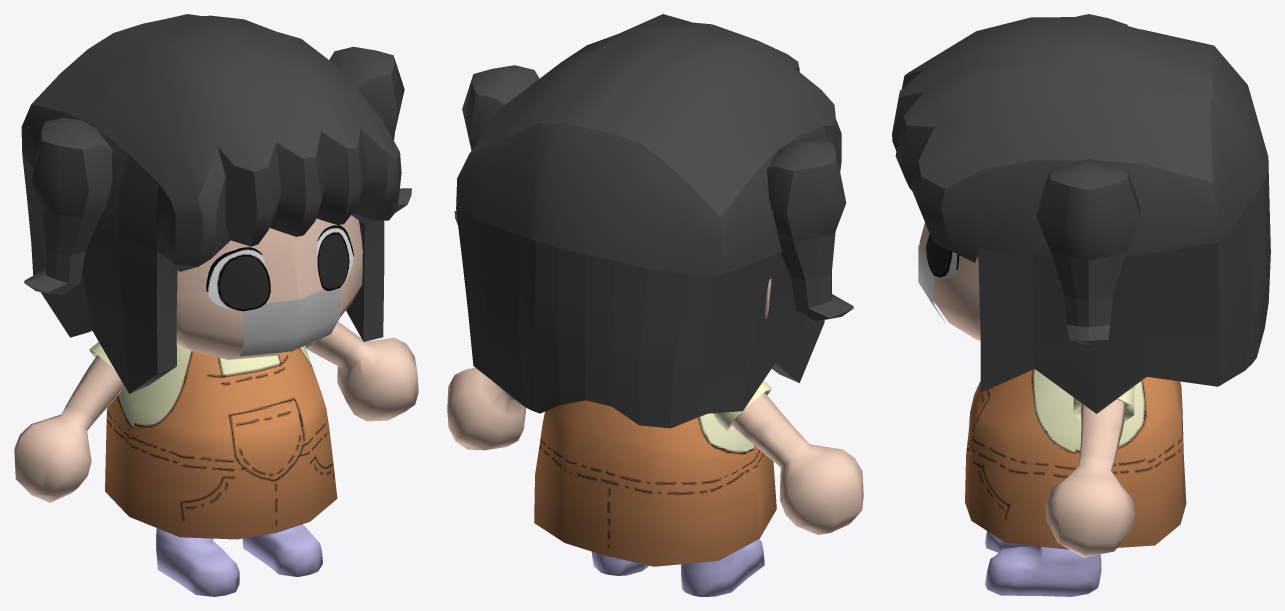
The model's file is Wheelchair_user V2.fbx.
3 views of the same model, side by side, from view 1: azimuth 30°, elevation 25°; view 2: azimuth 150°, elevation 25°; view 3: azimuth 270°, elevation 25° (orthographic). The views are drawn at different scales.
Parts seen in each view (by area): view 1: Hair_v2_2, shirt_n_pants6, polySurface4, Hair_v2_2_2, eyes, mouth, pCube40, Hair_v2_2_1, pCube41; view 2: Hair_v2_2, shirt_n_pants6, polySurface4, Hair_v2_2_2, Hair_v2_2_1, pCube40, pCube41; view 3: Hair_v2_2, shirt_n_pants6, Hair_v2_2_1, polySurface4, pCube41, eyes, mouth, pCylinder17.
Boxes of the visible parts, x1=… form: Hair_v2_2: x1=21, y1=14, x2=401, y2=393; shirt_n_pants6: x1=105, y1=344, x2=337, y2=539; polySurface4: x1=14, y1=215, x2=418, y2=592; Hair_v2_2_2: x1=24, y1=117, x2=112, y2=295; eyes: x1=206, y1=225, x2=353, y2=311; mouth: x1=239, y1=282, x2=341, y2=356; pCube40: x1=156, y1=528, x2=239, y2=596; Hair_v2_2_1: x1=329, y1=46, x2=411, y2=212; pCube41: x1=242, y1=524, x2=323, y2=576; Hair_v2_2: x1=456, y1=14, x2=841, y2=428; shirt_n_pants6: x1=534, y1=400, x2=776, y2=566; polySurface4: x1=447, y1=278, x2=863, y2=567; Hair_v2_2_2: x1=767, y1=138, x2=853, y2=320; Hair_v2_2_1: x1=454, y1=65, x2=539, y2=224; pCube40: x1=681, y1=539, x2=764, y2=596; pCube41: x1=591, y1=551, x2=648, y2=575; Hair_v2_2: x1=892, y1=17, x2=1270, y2=413; shirt_n_pants6: x1=965, y1=369, x2=1186, y2=549; Hair_v2_2_1: x1=1036, y1=159, x2=1140, y2=345; polySurface4: x1=919, y1=222, x2=1135, y2=557; pCube41: x1=985, y1=546, x2=1101, y2=596; eyes: x1=926, y1=234, x2=959, y2=278; mouth: x1=918, y1=244, x2=945, y2=323; pCylinder17: x1=1073, y1=386, x2=1134, y2=421.
Bounding box in the file's own units: 5.07 × 6.21 × 4.03.
